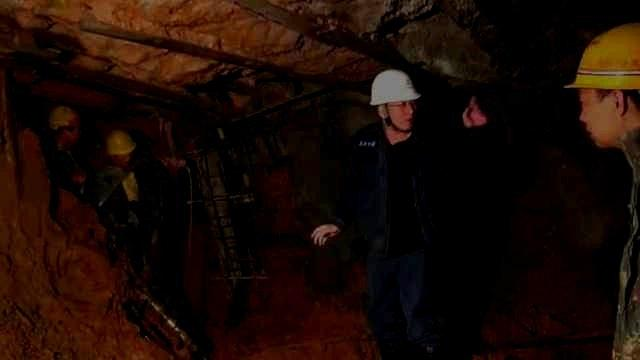helmet: (563, 21, 640, 148), (370, 68, 422, 131), (50, 104, 80, 148), (105, 130, 137, 170)
